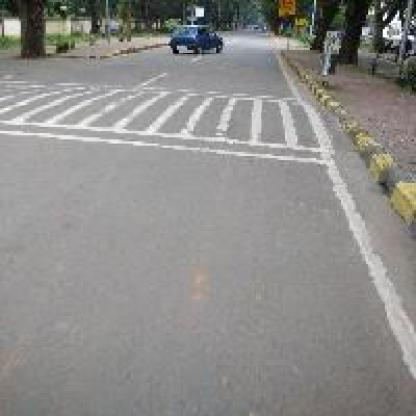Speed Bump: (0, 71, 337, 166)
